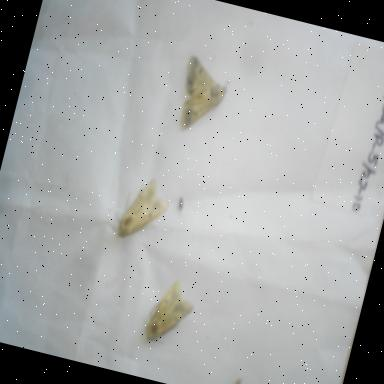abw: (162, 46, 243, 144), (110, 163, 180, 249), (139, 266, 203, 356)
